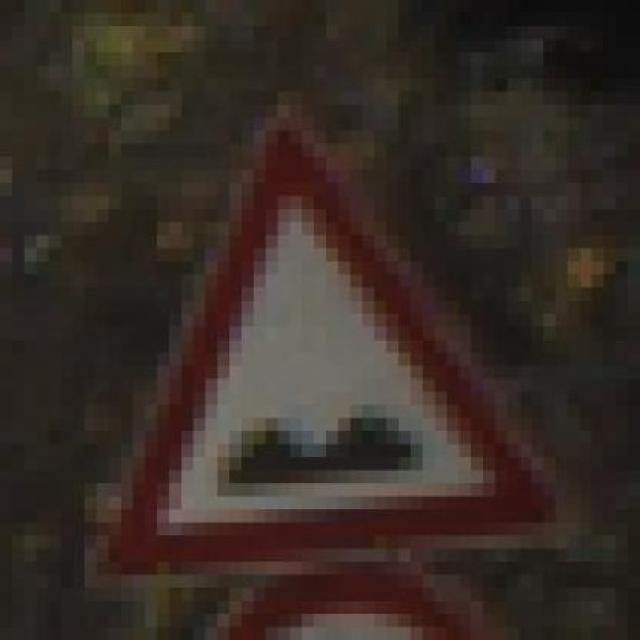Uneven Road: (72, 91, 592, 574)
